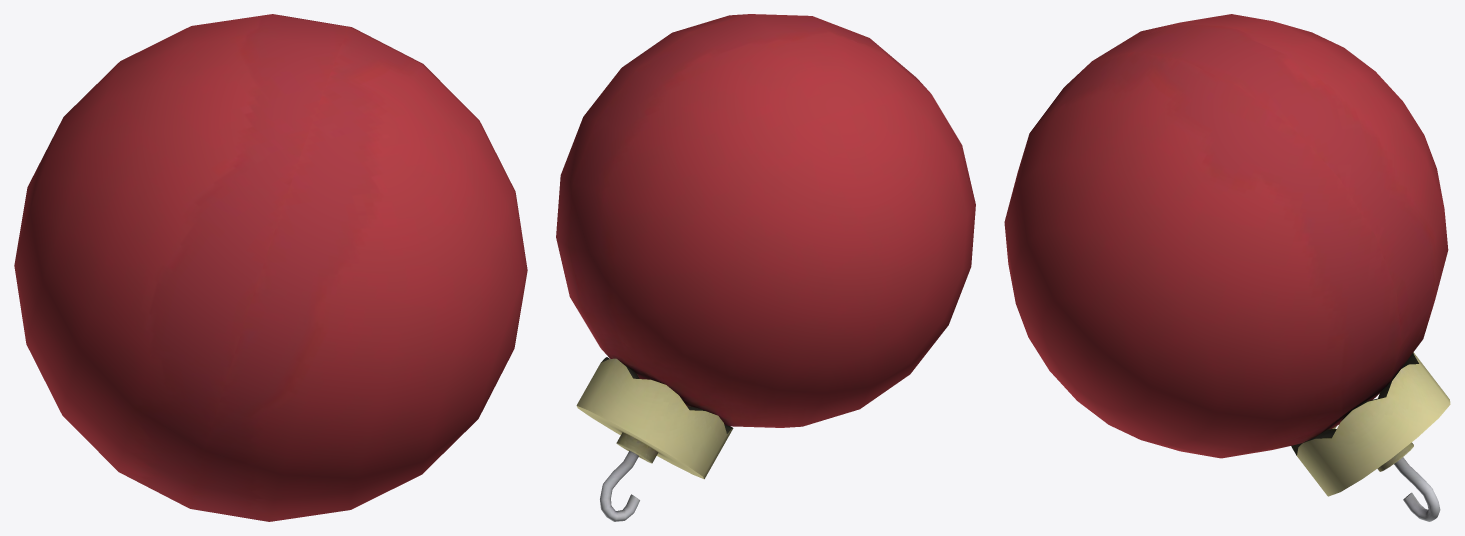
The picture shows the model from 3 angles, left to right: view 1: azimuth 30°, elevation 25°; view 2: azimuth 150°, elevation 25°; view 3: azimuth 270°, elevation 25°; orthographic projection. The views are drawn at different scales.
Visible parts, largest first — view 1: body0_model0_lod0_mesh0; view 2: body0_model0_lod0_mesh0; view 3: body0_model0_lod0_mesh0.
Part boxes in pixels (<box>): body0_model0_lod0_mesh0: <box>14,14,527,521</box>; body0_model0_lod0_mesh0: <box>556,14,975,521</box>; body0_model0_lod0_mesh0: <box>1004,14,1450,521</box>.
Size of the model in its own units: 4.66 by 5.33 by 4.7.
Materials: 1 (1 with a texture image).
